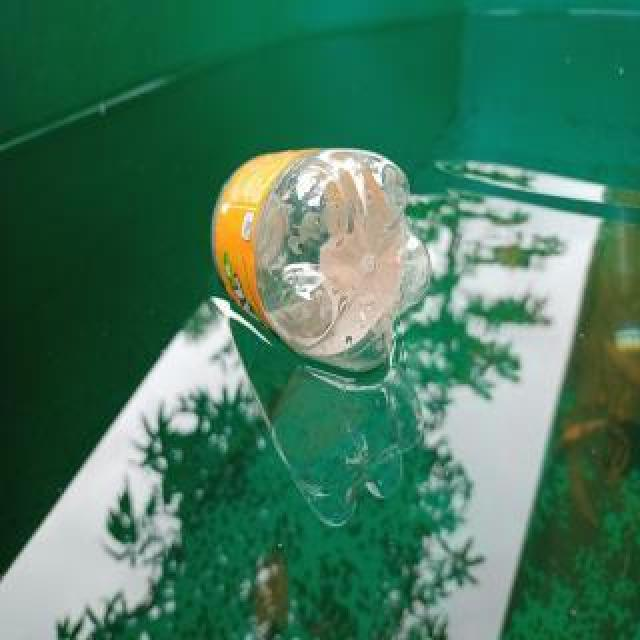bottle: (208, 145, 434, 377)
